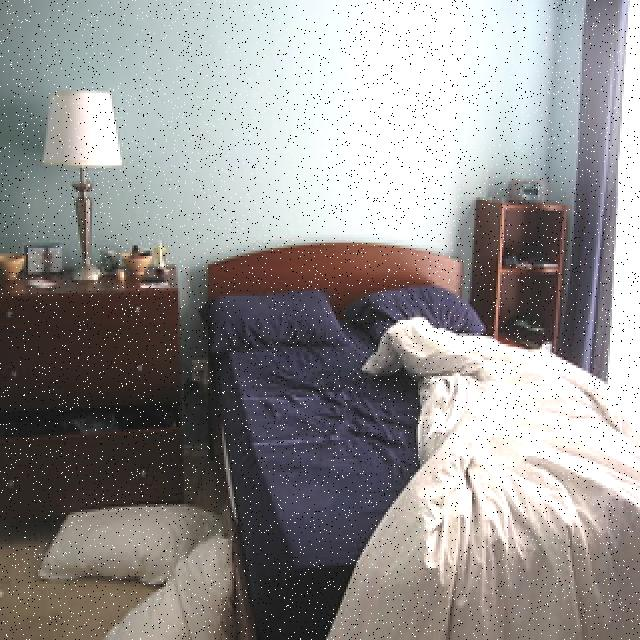bed: (214, 254, 640, 640)
